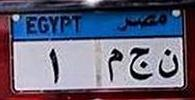1: (44, 44, 62, 86)
jeem: (128, 45, 154, 81)
meem: (104, 46, 124, 84)
noon: (156, 47, 179, 79)
